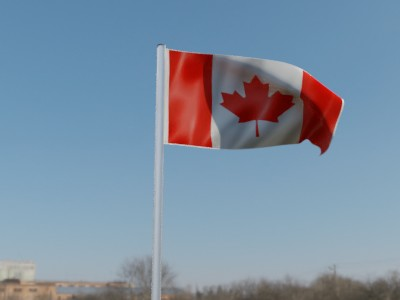America flag: (163, 50, 346, 159)
